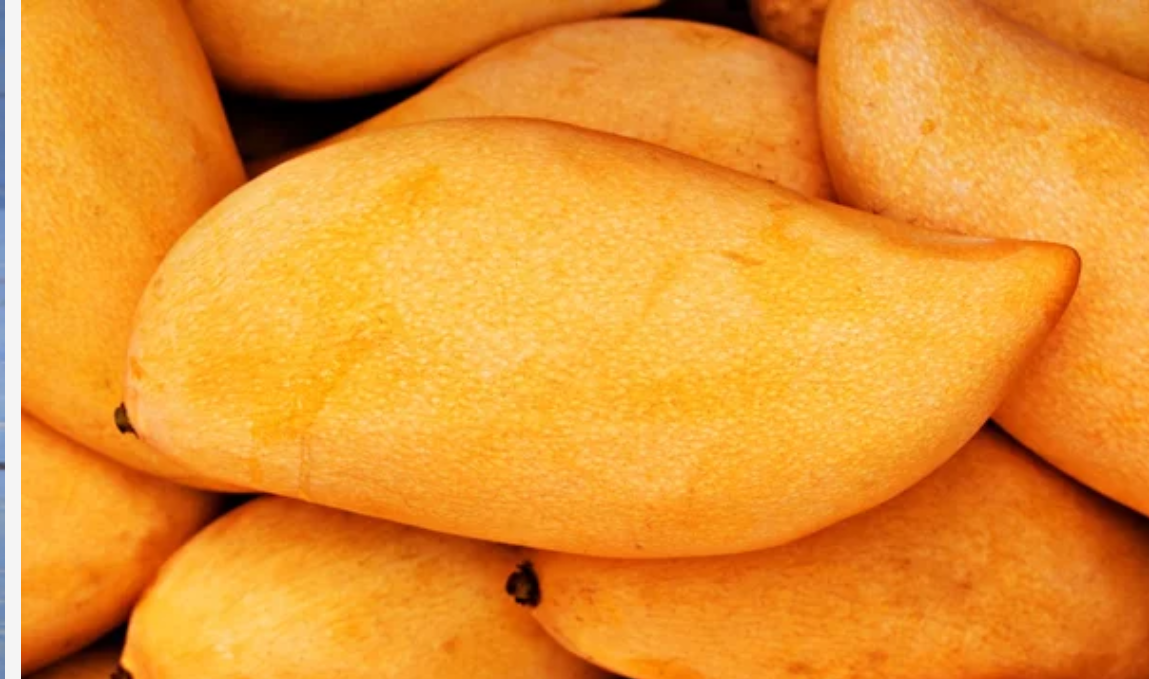mango: (126, 113, 1085, 558)
